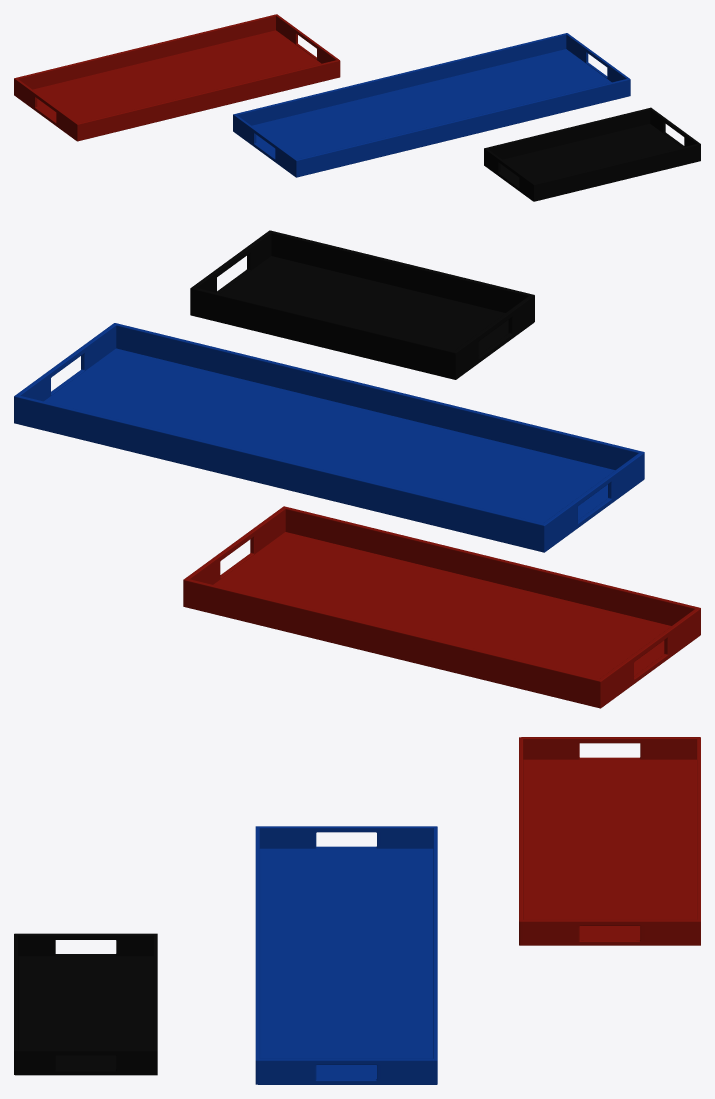
Rendered from Tray 06.FBX.
3 renders of one model, top to bottom at view 1: azimuth 30°, elevation 25°; view 2: azimuth 150°, elevation 25°; view 3: azimuth 270°, elevation 25°, orthographic. The views are drawn at different scales.
Visible parts, largest first — view 1: Tray 06_01, Tray 06_00, Tray 06_02; view 2: Tray 06_01, Tray 06_00, Tray 06_02; view 3: Tray 06_01, Tray 06_00, Tray 06_02.
Part boxes in pixels (x1,y1,x2,y2): Tray 06_01: (233,33,630,177); Tray 06_00: (14,14,340,141); Tray 06_02: (484,107,700,201); Tray 06_01: (14,323,644,552); Tray 06_00: (183,506,700,708); Tray 06_02: (190,230,534,379); Tray 06_01: (255,826,437,1084); Tray 06_00: (519,737,700,945); Tray 06_02: (14,933,157,1075).
Bounding box in the file's own units: 160 × 6.3 × 143.
